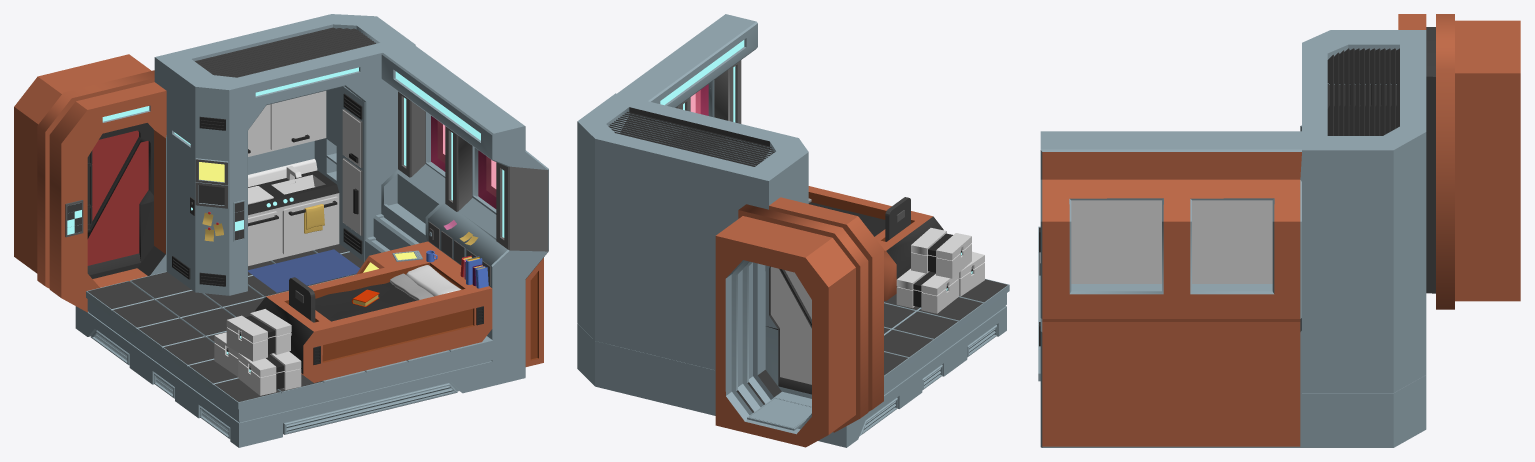
The model's file is Bedroomvs2.glb.
3 renders of one model, left to right at view 1: azimuth 30°, elevation 25°; view 2: azimuth 150°, elevation 25°; view 3: azimuth 270°, elevation 25°, orthographic. The views are drawn at different scales.
Parts seen in each view (by area): view 1: EverythingElse1, Objects1, Objects1.001, Plane, EverythingElse1.003, EverythingElse1.001; view 2: EverythingElse1, Objects1.001, Objects1, EverythingElse1.003; view 3: EverythingElse1, Objects1.
Part boxes in pixels (x1,y1,x2,y2): EverythingElse1: (14, 14, 548, 447); Objects1: (87, 91, 496, 364); Objects1.001: (214, 309, 301, 395); Plane: (248, 249, 359, 292); EverythingElse1.003: (289, 277, 315, 322); EverythingElse1.001: (195, 158, 228, 185); EverythingElse1: (577, 14, 1009, 447); Objects1.001: (896, 228, 984, 313); Objects1: (690, 84, 885, 384); EverythingElse1.003: (885, 197, 910, 241); EverythingElse1: (1038, 14, 1520, 447); Objects1: (1039, 200, 1272, 346).
Size of the model in its own units: 5.5 by 3.94 by 5.78.
